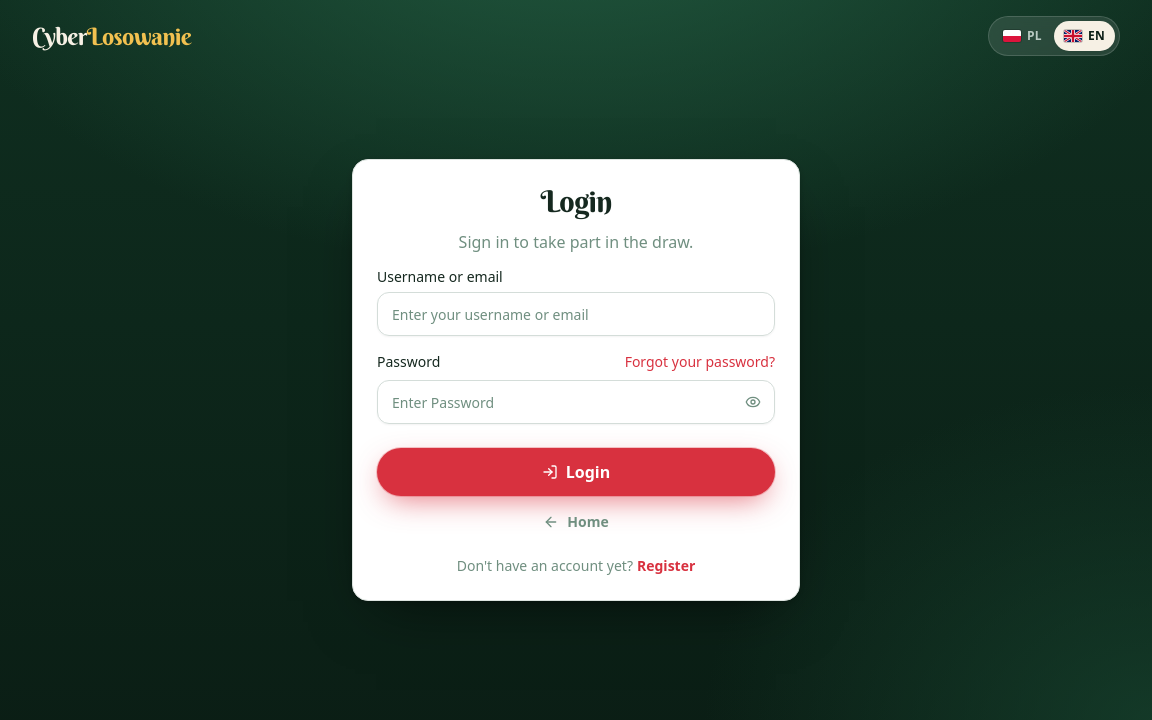
Test: Login › explains a locked account or too many attempts instead of the raw server text
The image size is (1152, 720).
In the field labelled "Username or email": (576, 314) [377, 292, 775, 336], type "john"
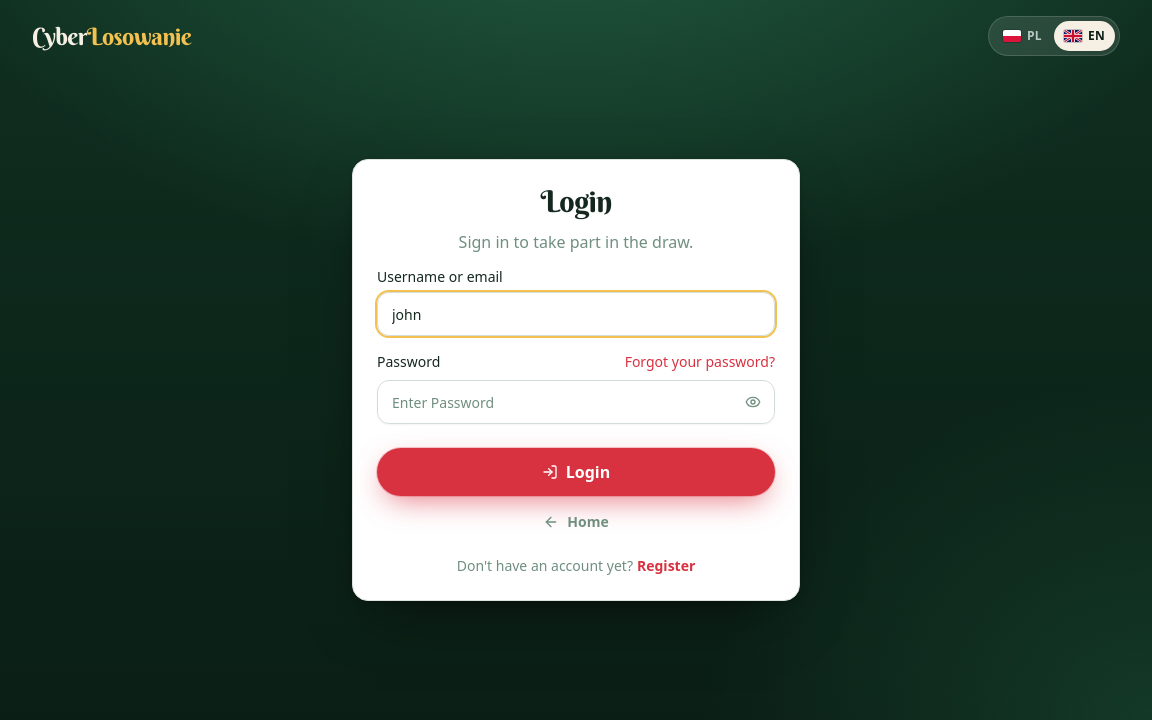
In the password field labelled "Password": (576, 402) [377, 380, 775, 424], type "wrong"
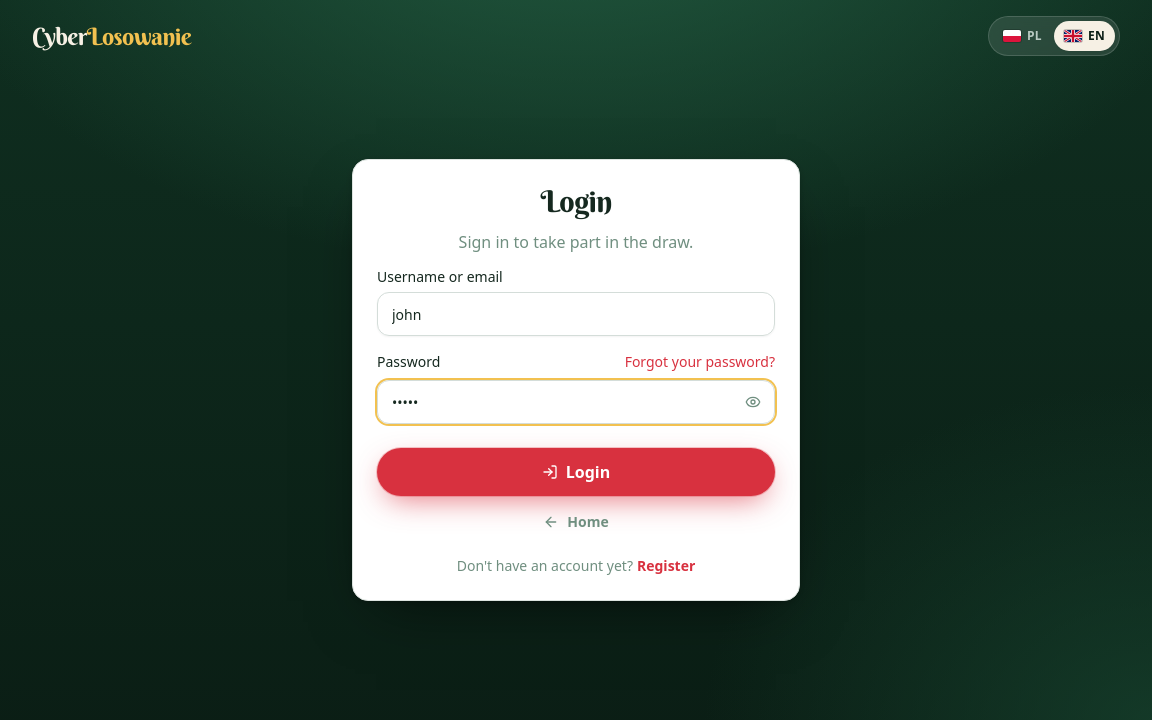
Click the button "Login": (576, 472) [377, 448, 775, 496]
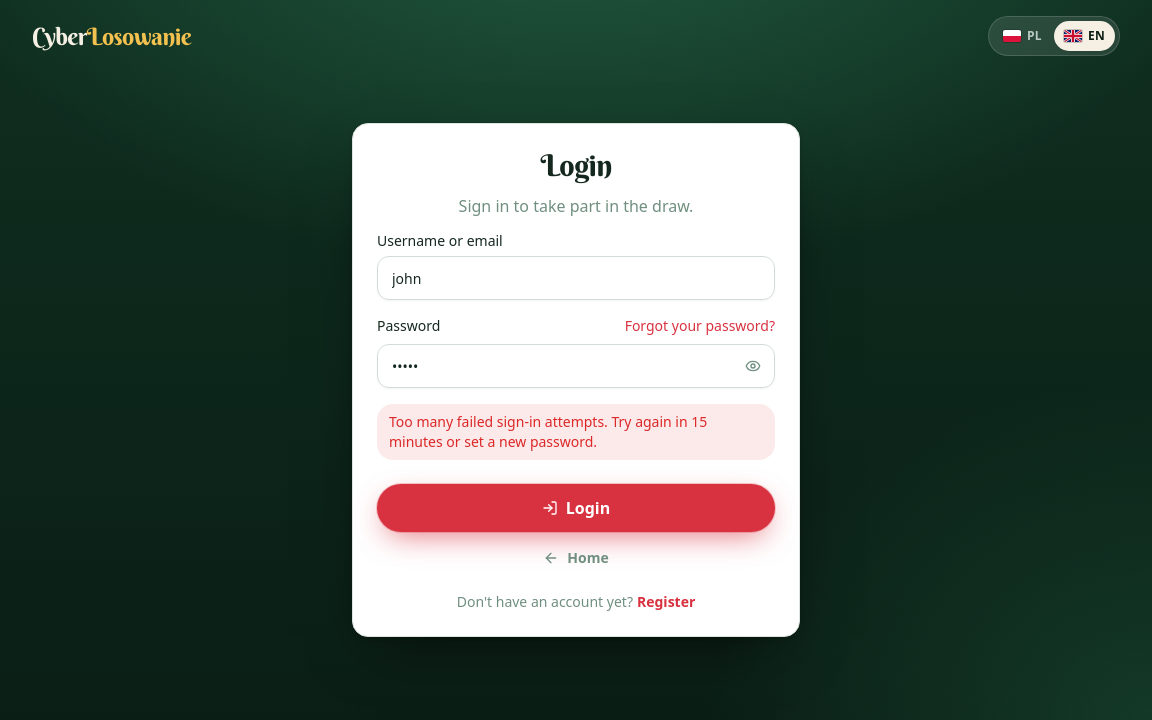
Now the message reads "Too many failed sign-in attempts. Try again in 15 minutes or set a new password.", box [389, 412, 707, 451]
